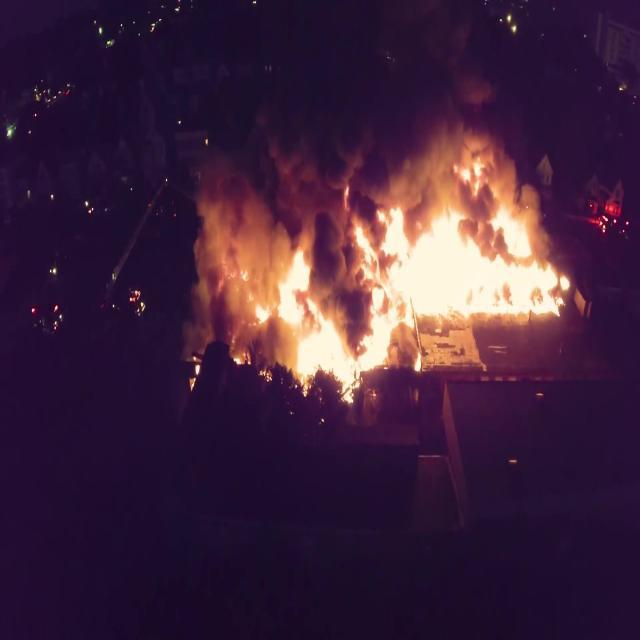Fire: (252, 194, 572, 404)
Smoke: (191, 5, 536, 198), (185, 198, 253, 366)
